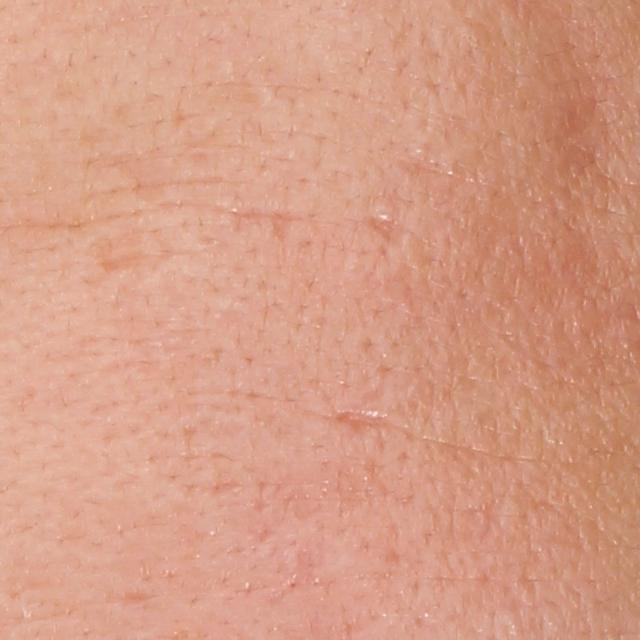atrophic_scar: (83, 227, 150, 274), (339, 402, 388, 433), (370, 214, 409, 248)
